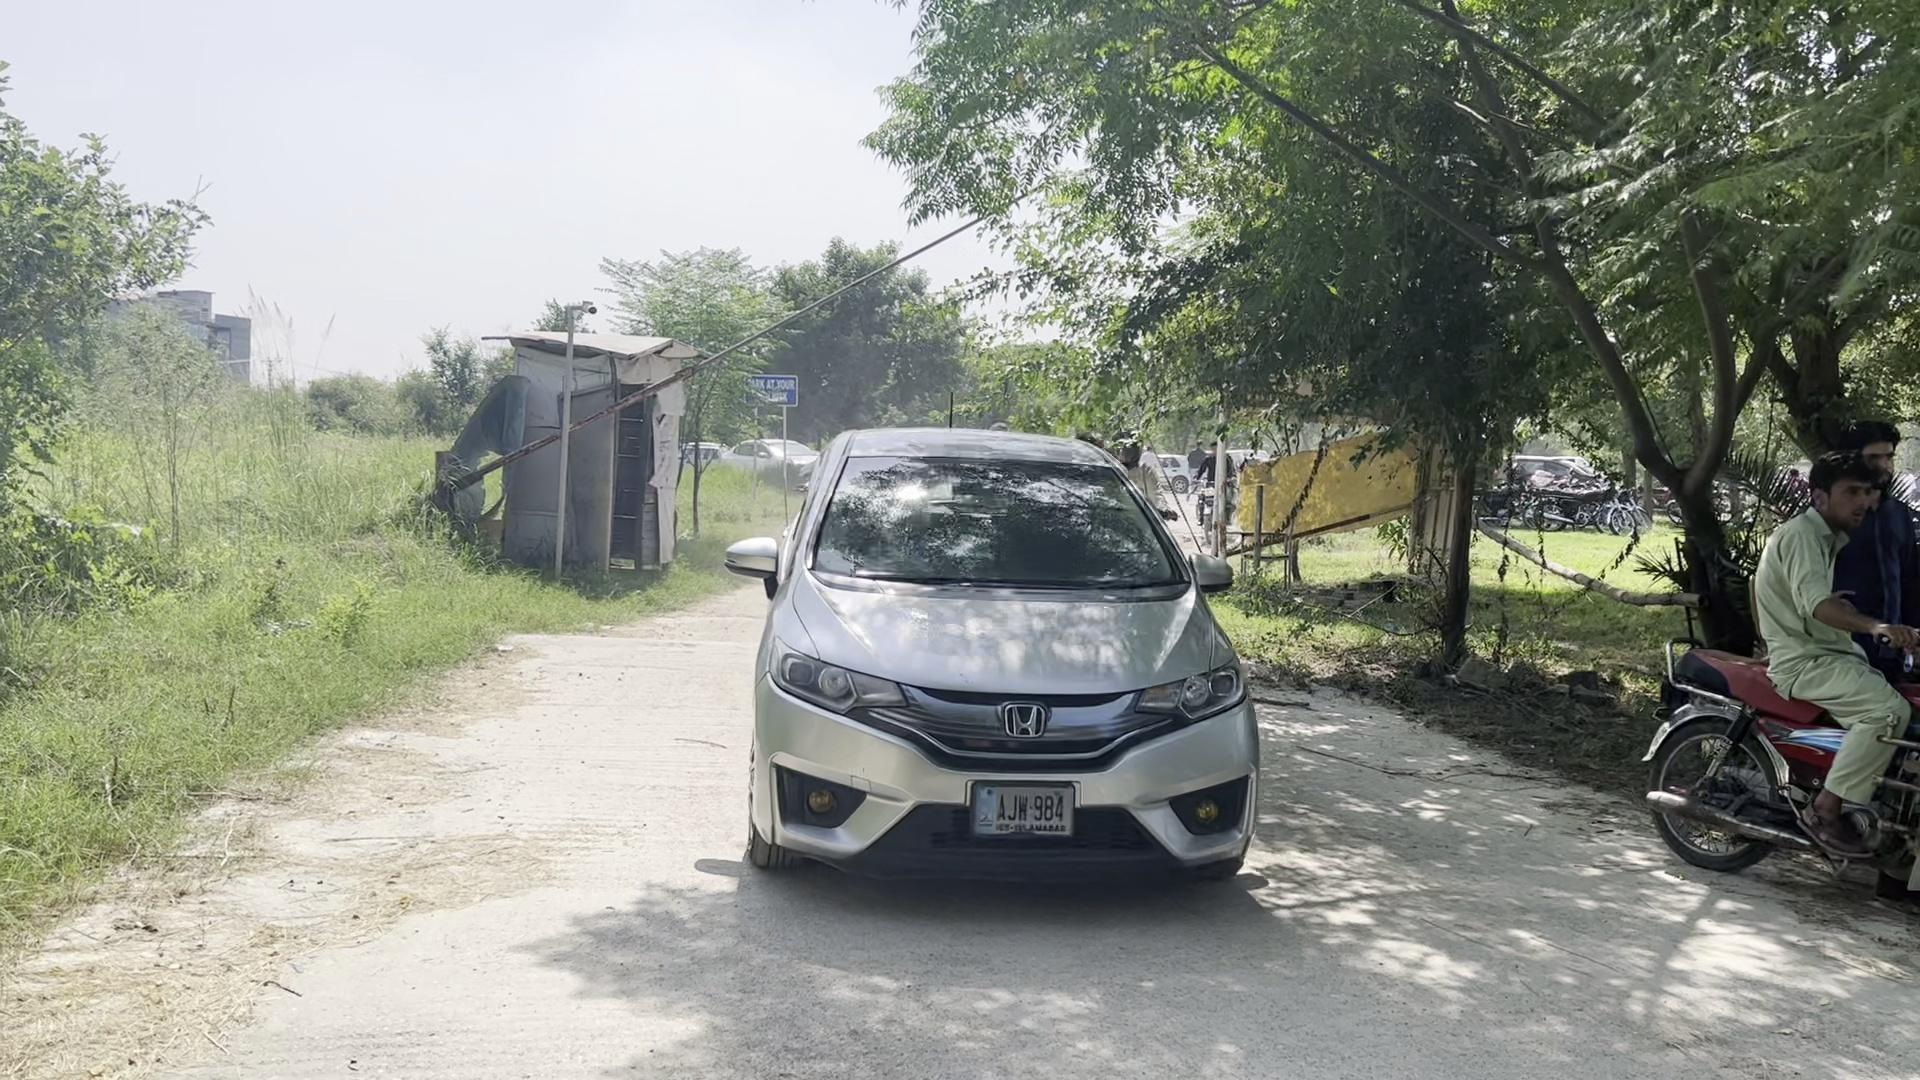windshield: (795, 452, 1193, 589)
